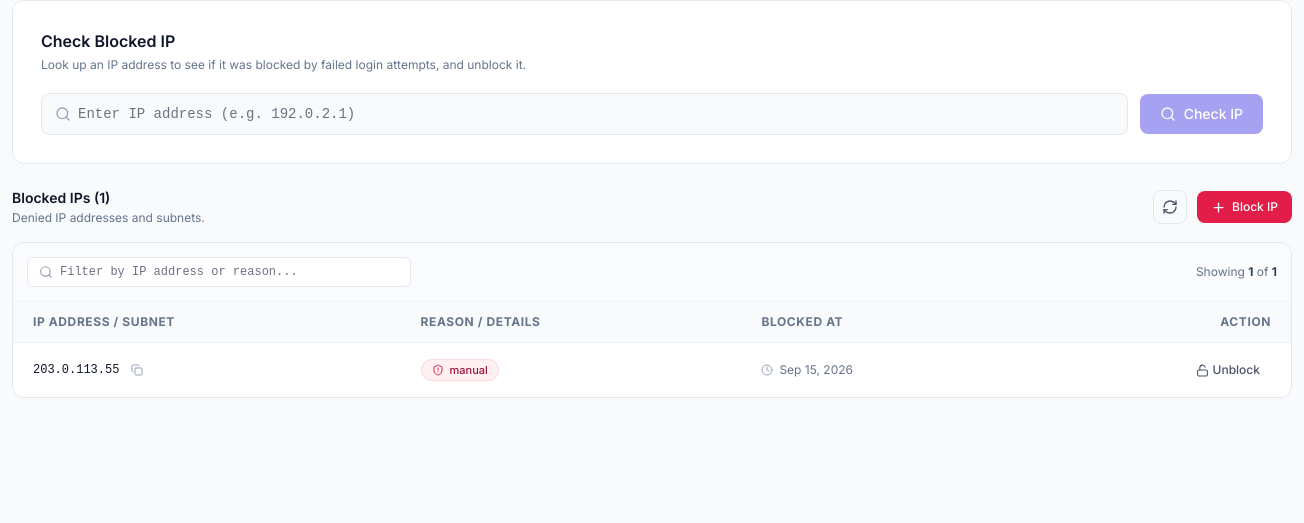
it: BlockedIpsView Component › performs diagnostic search and displays Unblock button when IP is blocked
Expected: the heading "Check Blocked IP" is shown, [41,31,175,51]
Step 1. Type "192.0.2.42" into the field with placeholder "Enter IP address (e.g. 192.0.2.1)" → x=584, y=114, box [41,93,1128,135]
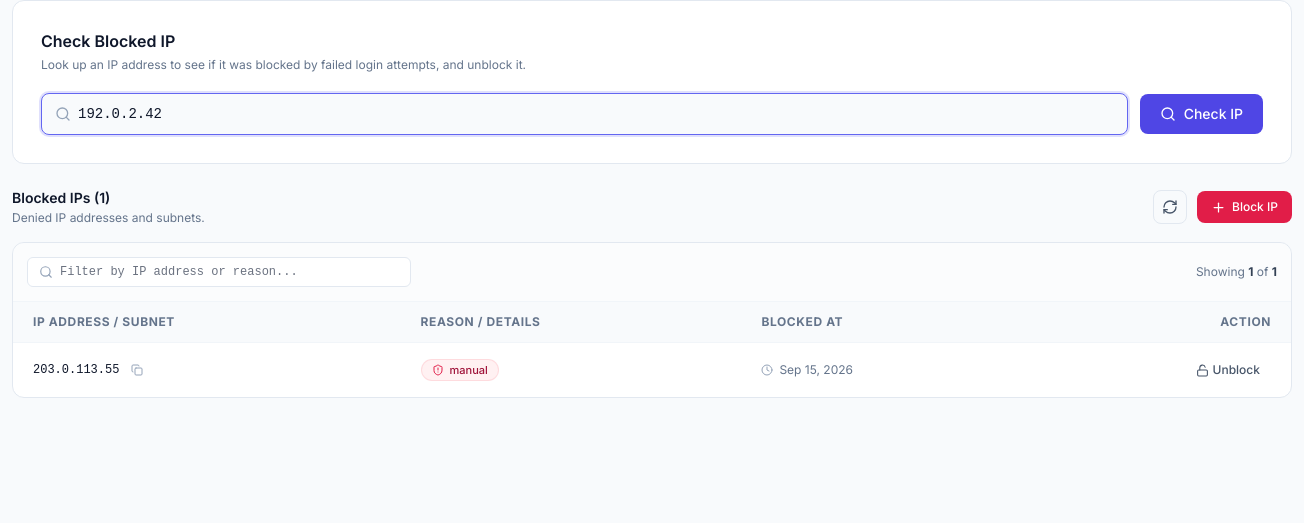
Step 2. Click the button "Check IP" → x=1201, y=114, box [1140,94,1263,134]
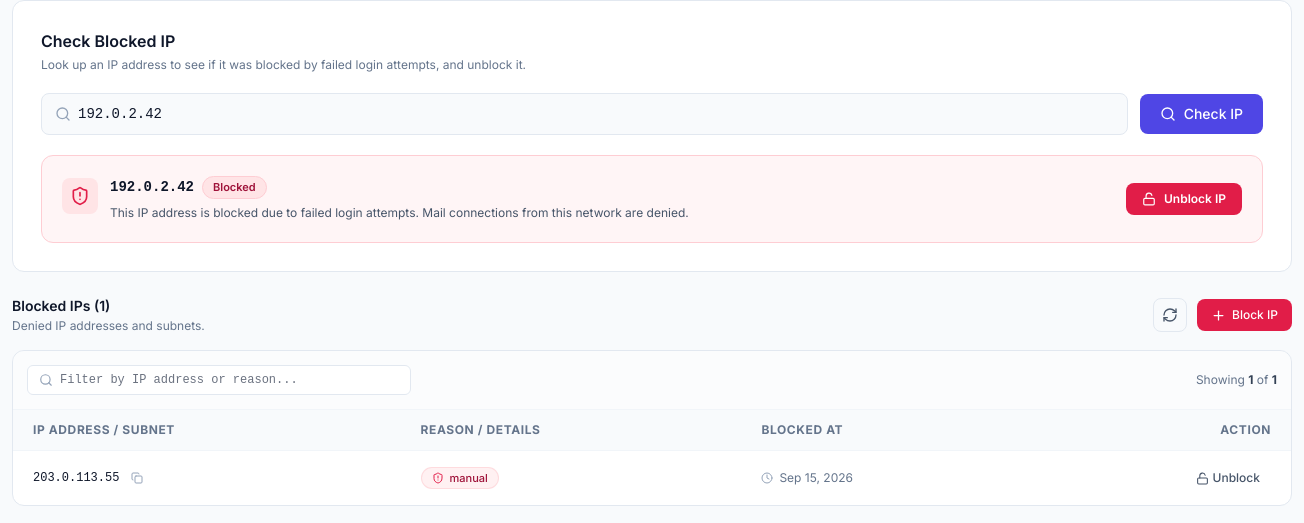
Expected: the text "Blocked" is shown, [202,176,267,198]
Expected: the button "Unblock IP" is shown, [1126,183,1242,215]
